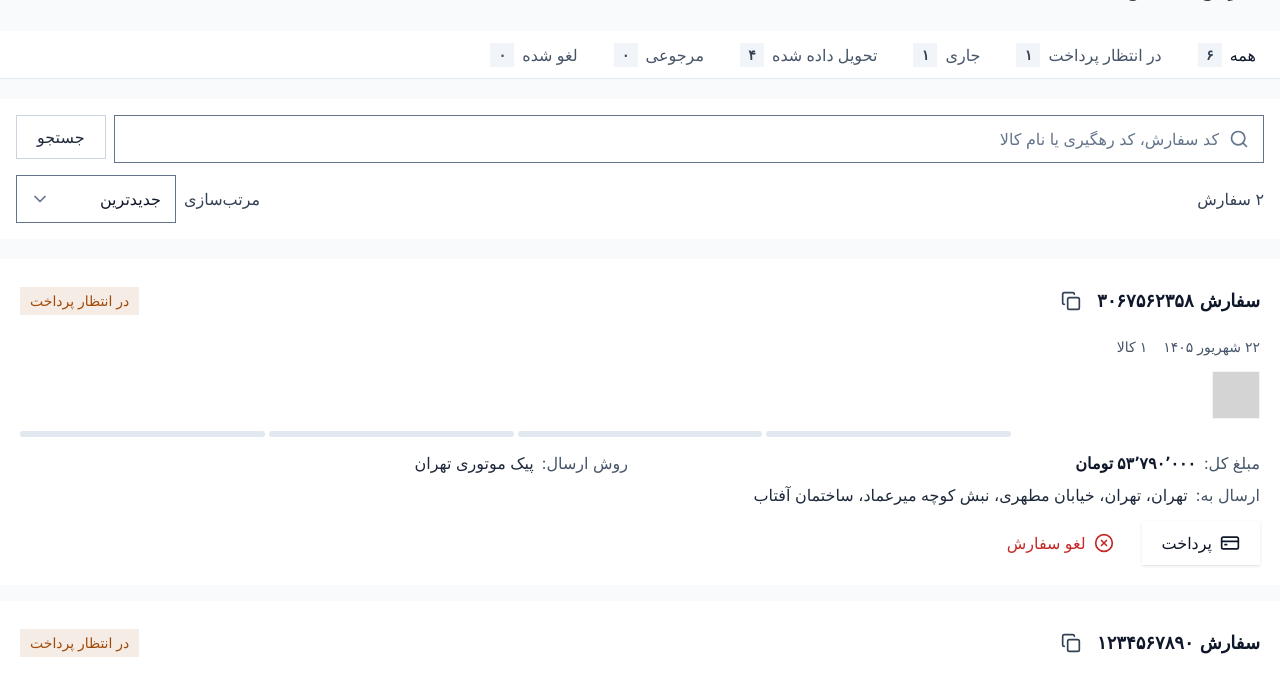
the card actions › each order’s question is its own: nothing of another order’s is left in it
This screenshot has width=1280, height=681.
Click the button "لغو سفارش".
click(1060, 543)  # box [987,521,1134,565]
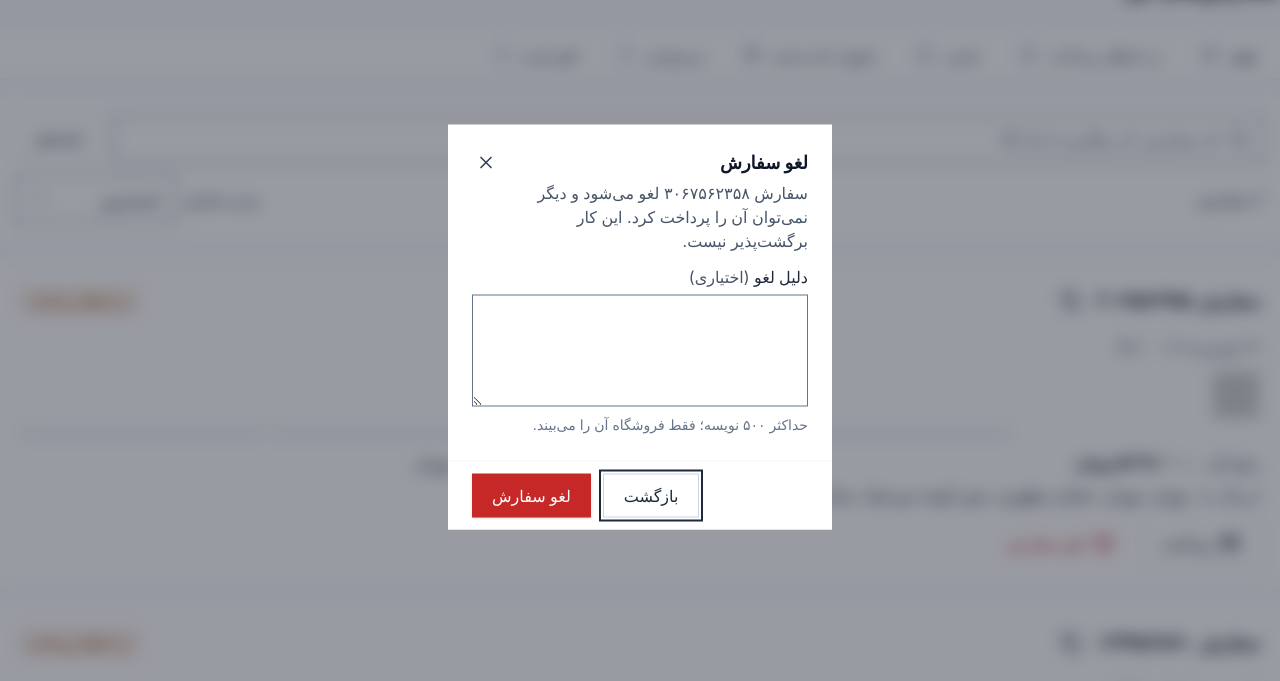
Type "دلیل الف" into the text box labelled "دلیل لغو (اختیاری)".
click(640, 350); type("دلیل الف")  # box [472,294,808,406]
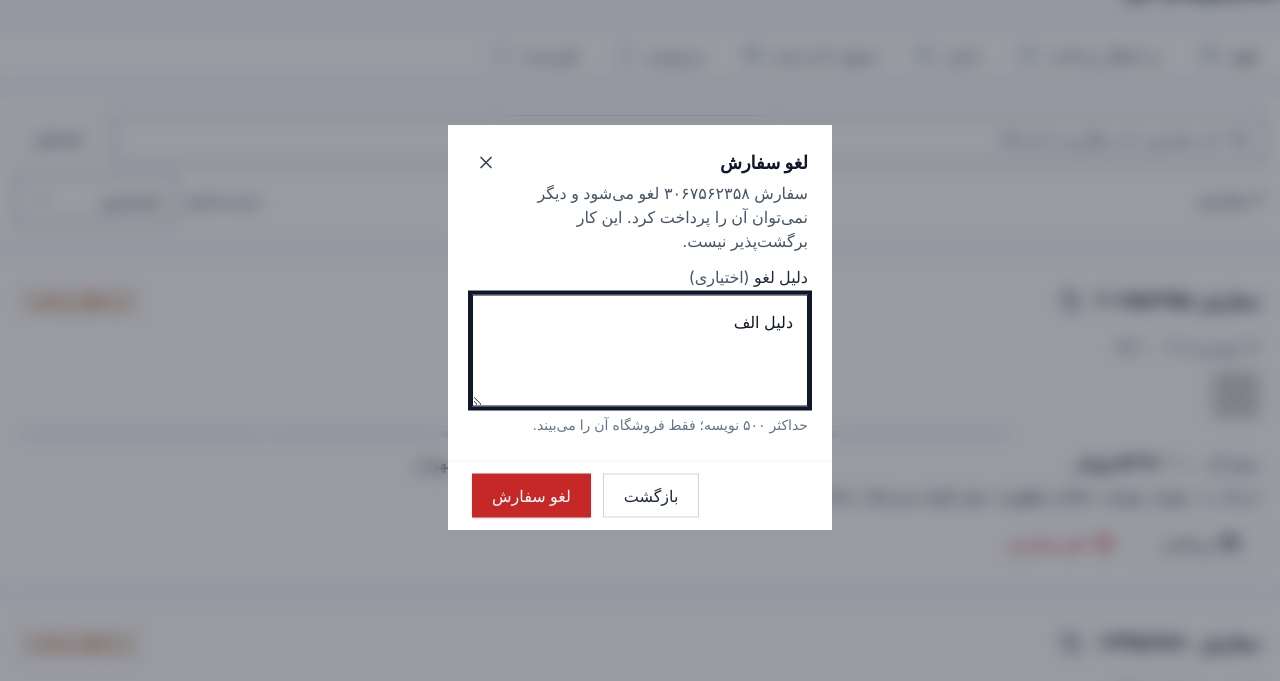
Click the button "لغو سفارش".
click(531, 496)  # box [472,474,591,518]
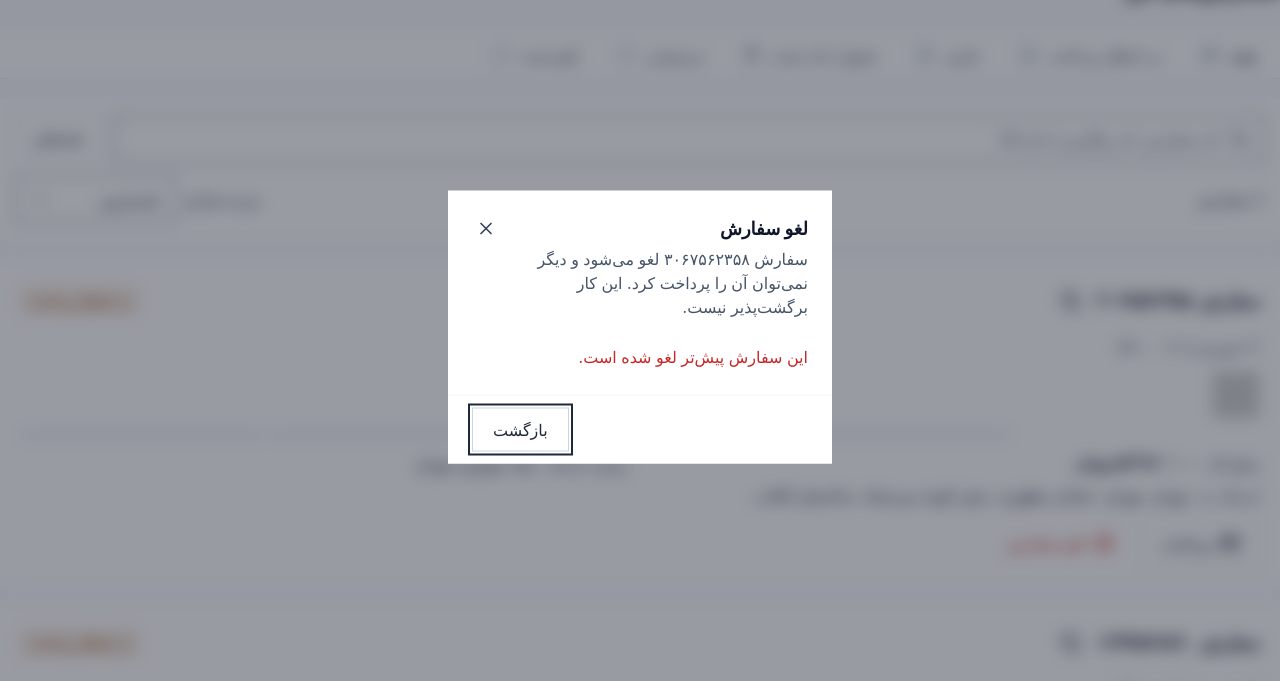
Expected: the message shows "پیش‌تر لغو شده", [579,346,808,366]
Click the button "بازگشت".
click(520, 430)  # box [472,408,569,452]
(page scrolled)
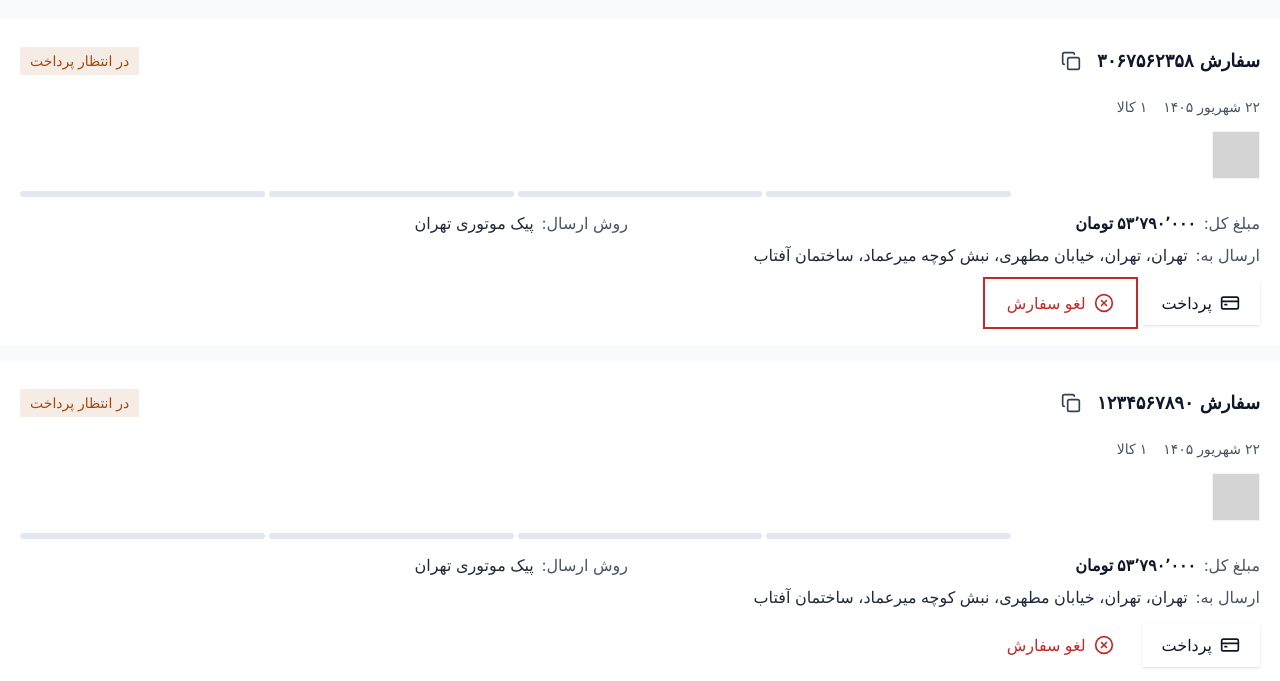
Expected: the dialog is gone
Click the button "لغو سفارش" below "۱۲۳۴۵۶۷۸۹۰".
click(1060, 645)  # box [987,623,1134,667]
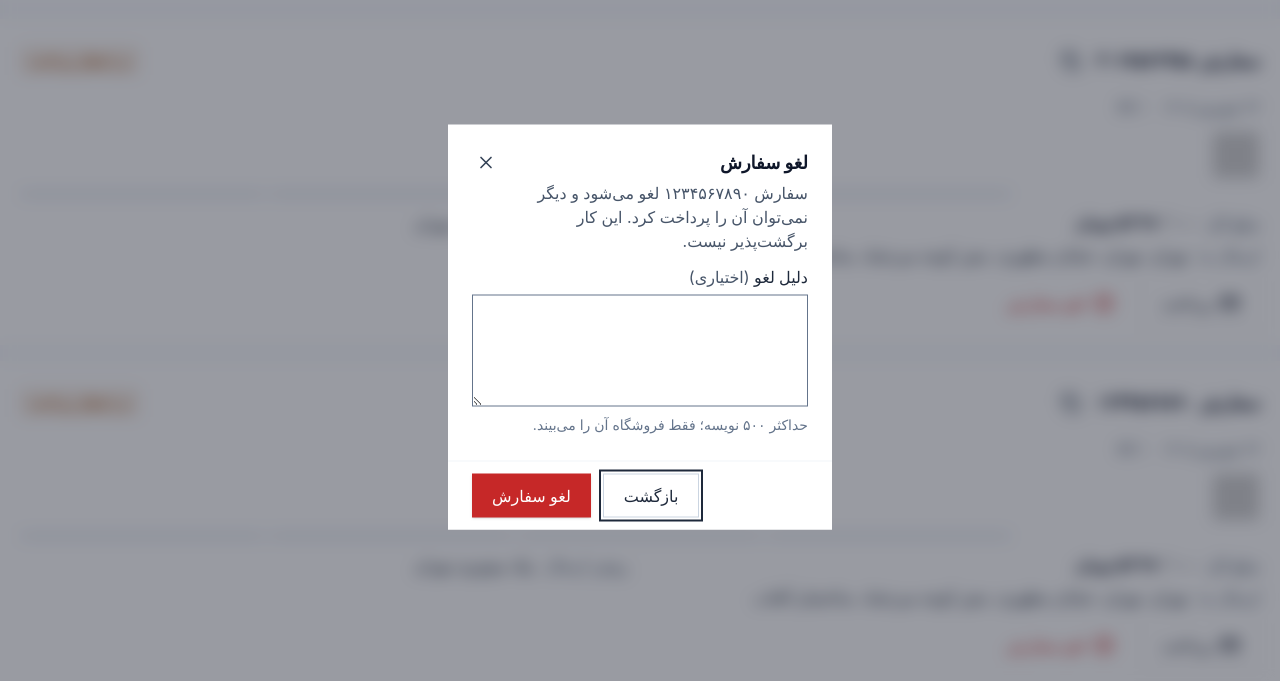
Expected: the message "این سفارش پیش‌تر لغو شده است." is not shown
Expected: the dialog "لغو سفارش" shows "سفارش ۱۲۳۴۵۶۷۸۹۰ لغو می", [537,182,808,250]
Expected: the button "لغو سفارش" is shown, [472,474,591,518]
